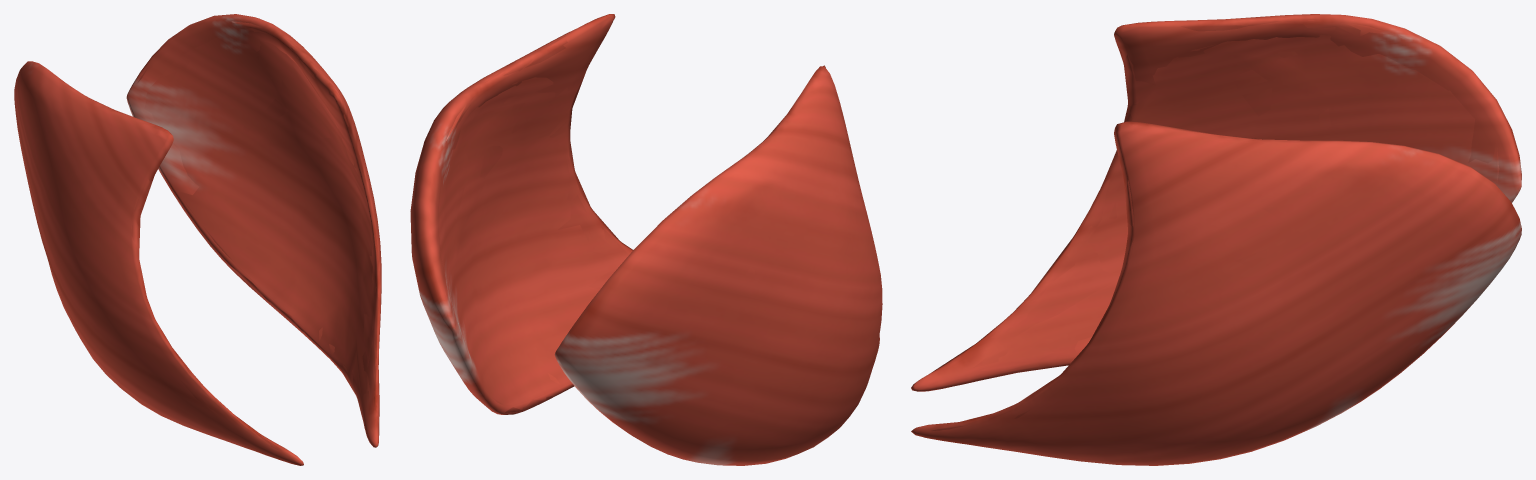
The model's file is obliquus internus abdominis.fbx.
3 views of the same model, side by side, from view 1: azimuth 30°, elevation 25°; view 2: azimuth 150°, elevation 25°; view 3: azimuth 270°, elevation 25° (orthographic). The views are drawn at different scales.
Parts seen in each view (by area): view 1: obliquus internus abdominis, obliquus internus abdominis low; view 2: obliquus internus abdominis, obliquus internus abdominis low; view 3: obliquus internus abdominis, obliquus internus abdominis low.
Part boxes in pixels (x1,y1,x2,y2): obliquus internus abdominis: (14, 14, 381, 465); obliquus internus abdominis low: (27, 21, 379, 455); obliquus internus abdominis: (410, 14, 882, 465); obliquus internus abdominis low: (438, 36, 878, 412); obliquus internus abdominis: (911, 14, 1521, 465); obliquus internus abdominis low: (931, 16, 1512, 431).
Size of the model in its own units: 19.73 by 18.67 by 30.26.
